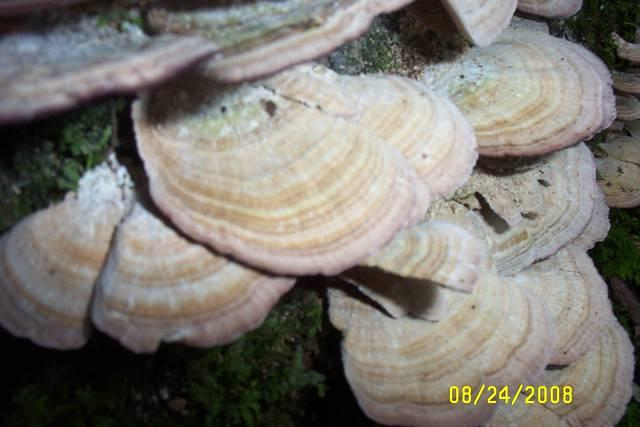poisonous_mushroom: (0, 0, 637, 426), (129, 59, 478, 277), (325, 215, 551, 426)
